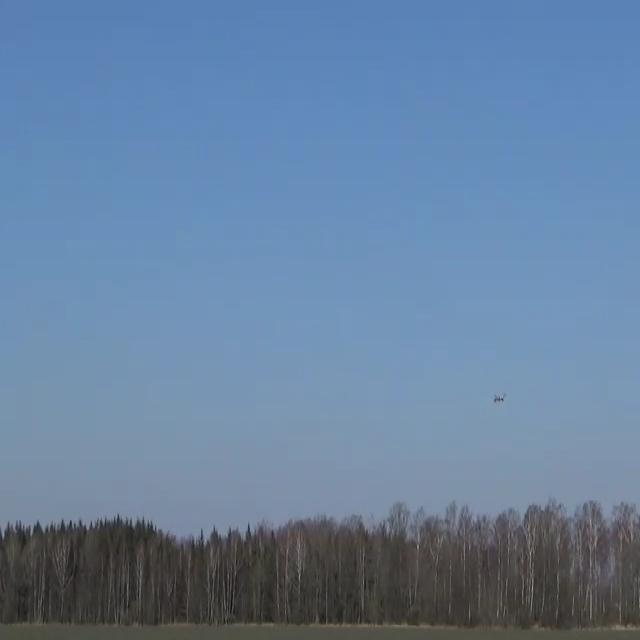Drone: (483, 380, 518, 418)
